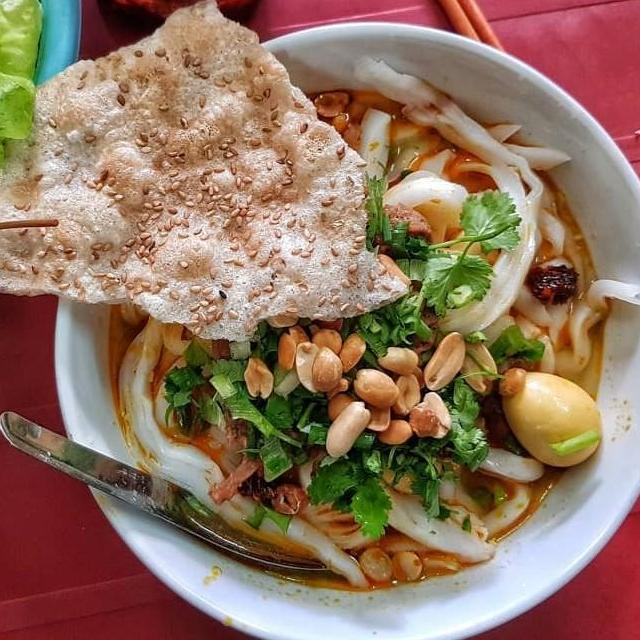banh da: (0, 0, 421, 343)
mi: (113, 316, 546, 594), (344, 50, 640, 387)
trung: (498, 366, 606, 474)
